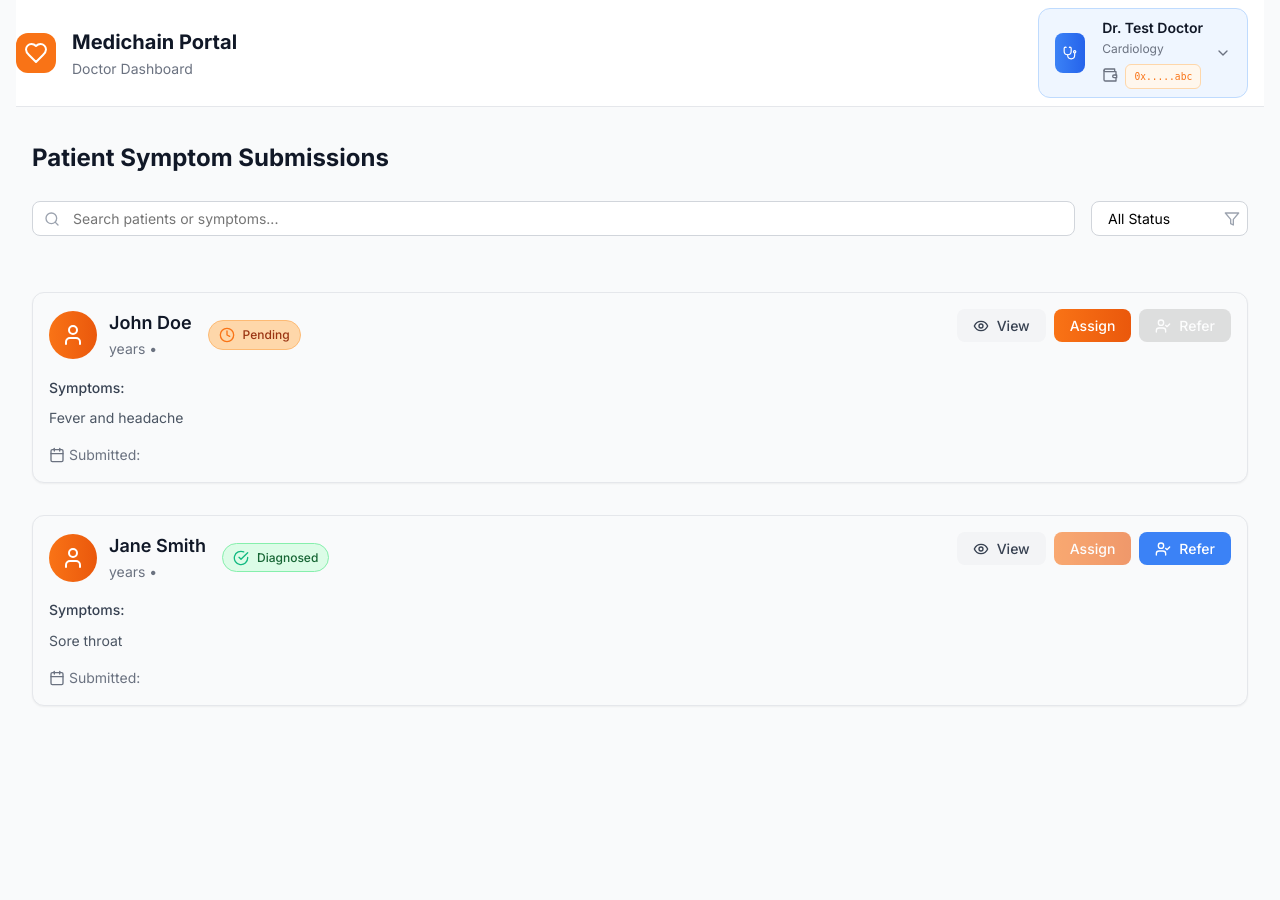
Scenario: DoctorDashboard › opens the ViewModal with details when a "View" button is clicked
Check: the heading "John Doe" is shown, box 109,309 -> 192,338
Click the button "View" in the row of "Pending" at (1001, 326), box 957,309 -> 1046,342
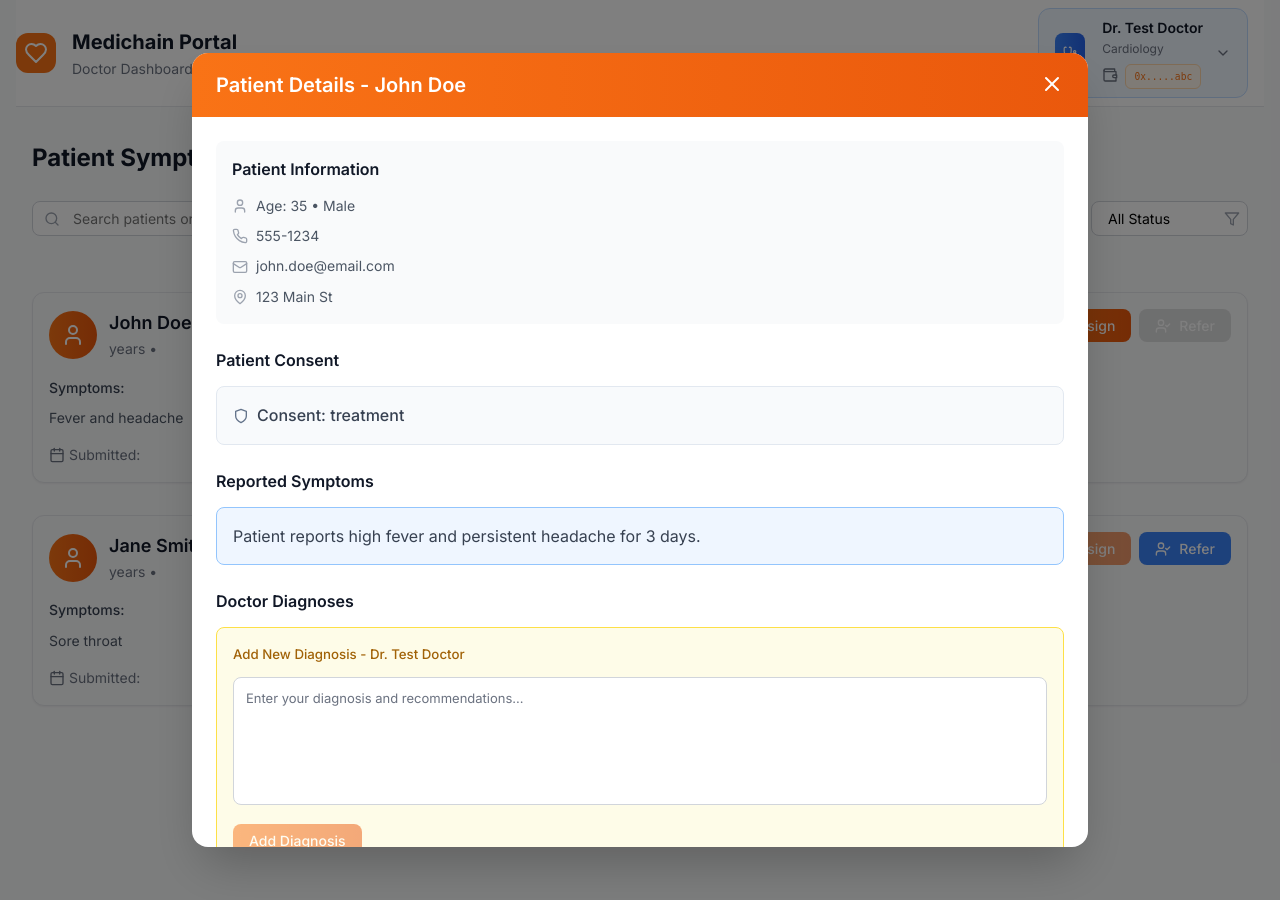
Check: the heading "Patient Details - John Doe" is shown, box 216,69 -> 466,101
Check: the text "Patient reports high fever and persistent headache for 3 days." is shown, box 233,526 -> 701,546
